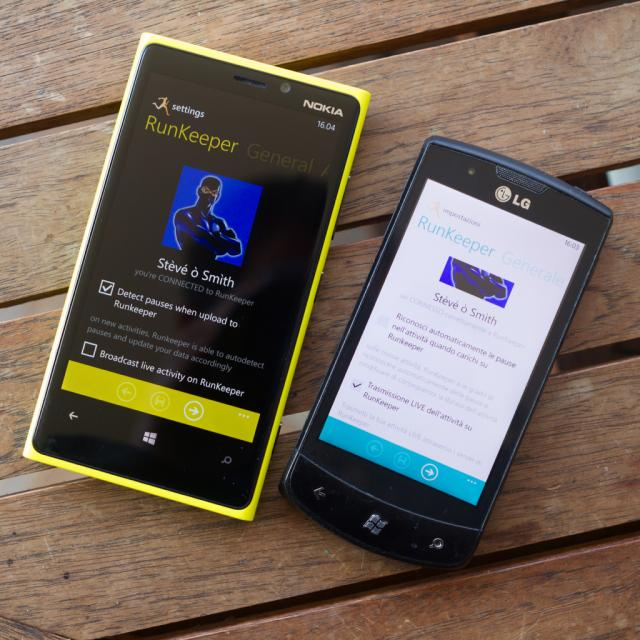Mobile-phone: (20, 31, 371, 523), (276, 145, 622, 572)
